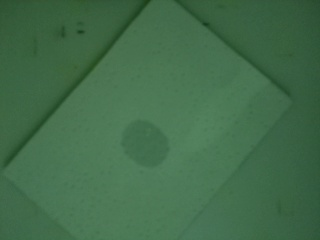Water_detected: (126, 125, 167, 164)
